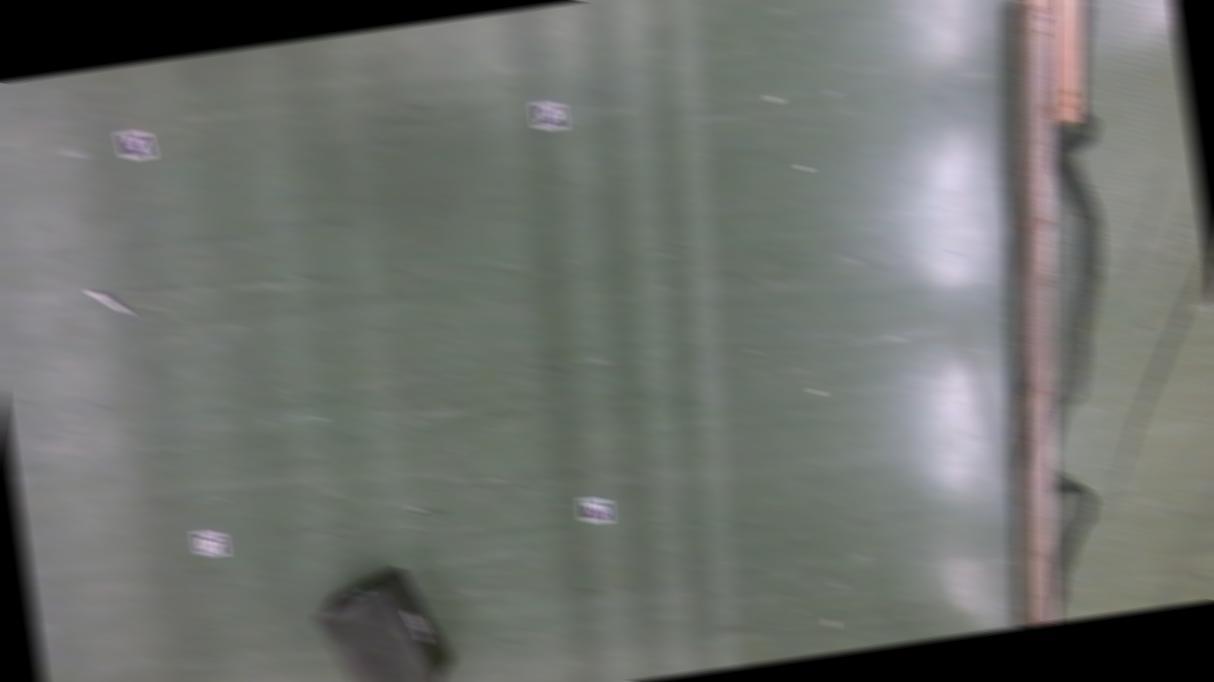probes: (87, 285, 133, 322)
rako: (307, 558, 459, 682)
